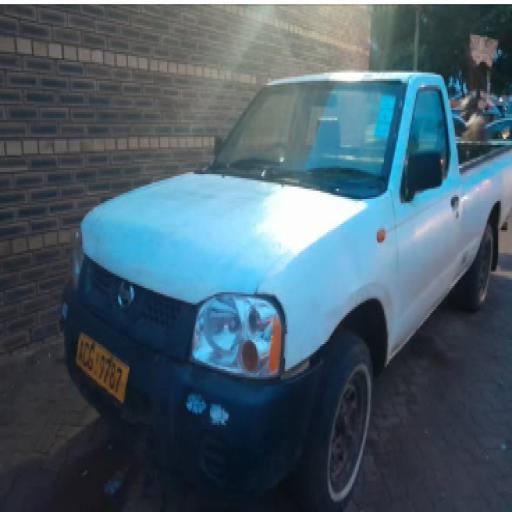number-plates: (78, 324, 128, 400)
